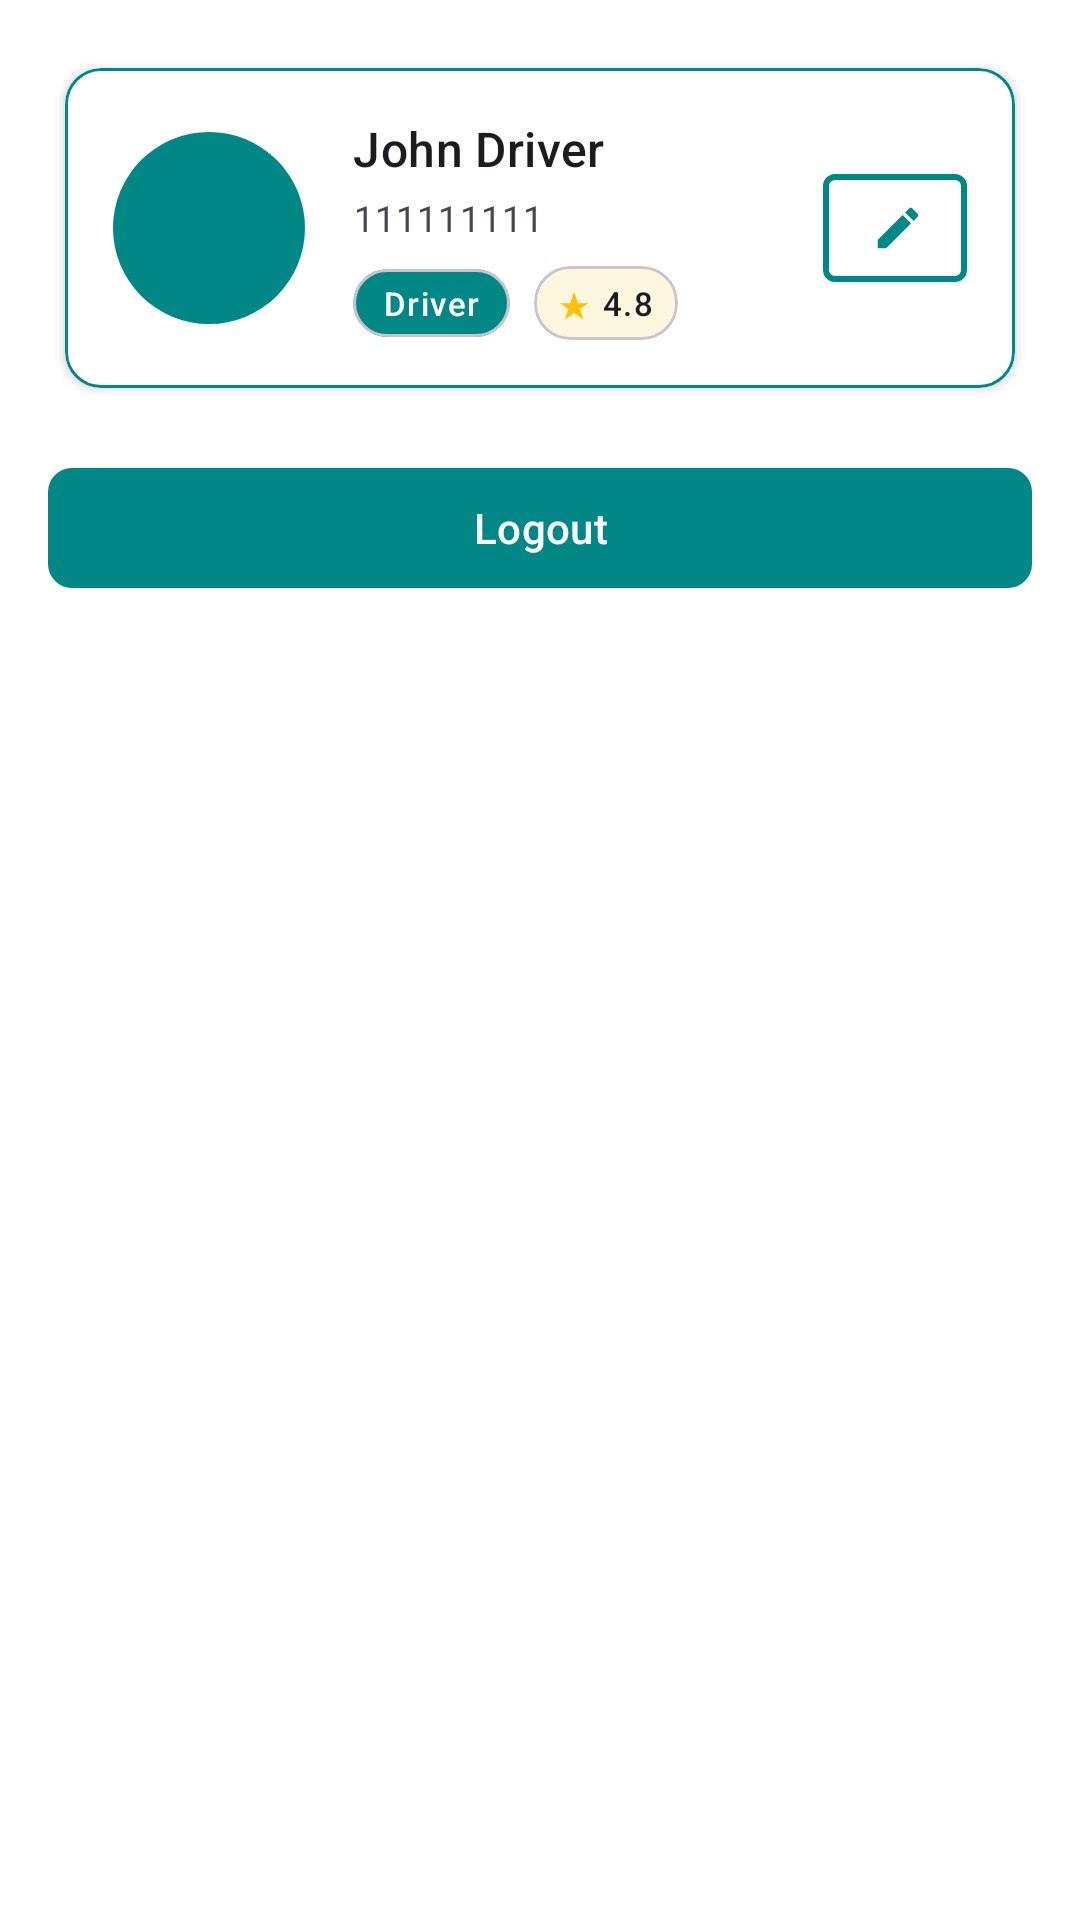

Screen size 1080x1920. Icon name, then its center in pixels as [x,y]:
edit: [895,228]
